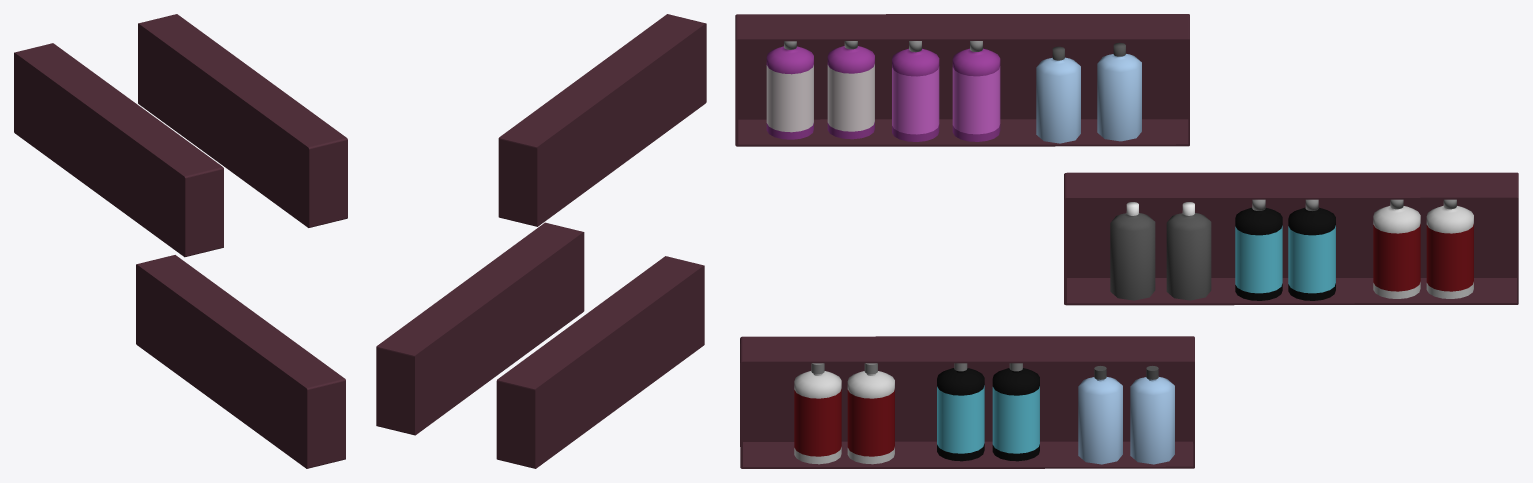
Rendered from Estantes lado femenino.glb.
3 views of the same model, side by side, from view 1: azimuth 30°, elevation 25°; view 2: azimuth 150°, elevation 25°; view 3: azimuth 270°, elevation 25° (orthographic). The views are drawn at different scales.
Parts seen in each view (by area): view 1: Cube.008, Cube.011, Cylinder.019; view 2: Cylinder.019, Cube.011, Cube.008; view 3: Cube.008, Cube.011, Cylinder.019.
Boxes of the visible parts, bbox=[...] form: Cube.008: bbox=[14, 43, 223, 257]; Cube.011: bbox=[138, 14, 347, 227]; Cylinder.019: bbox=[136, 255, 345, 468]; Cylinder.019: bbox=[496, 256, 704, 468]; Cube.011: bbox=[498, 14, 706, 226]; Cube.008: bbox=[376, 222, 584, 435]; Cube.008: bbox=[1064, 172, 1518, 305]; Cube.011: bbox=[735, 14, 1189, 146]; Cylinder.019: bbox=[740, 336, 1194, 468].
Size of the model in its own units: 0.1875 by 1.46 by 2.41.
